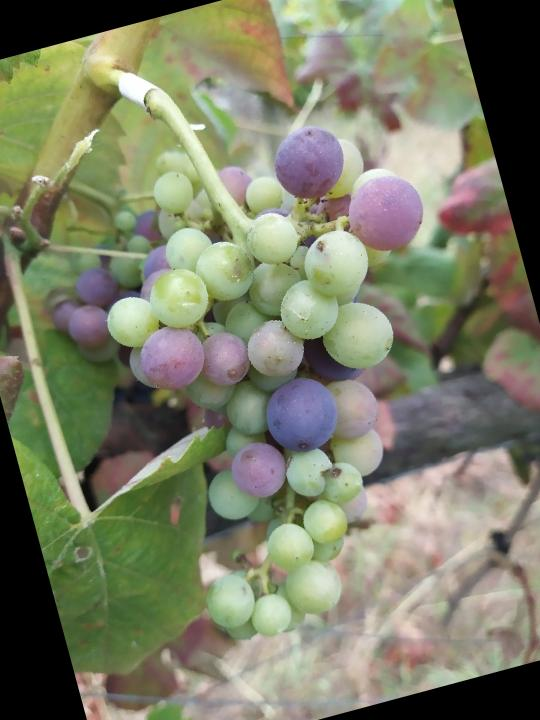grape: (67, 100, 525, 662)
